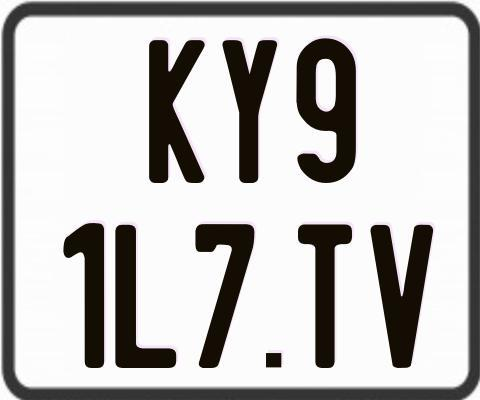1: (62, 220, 108, 370)
7: (192, 223, 256, 367)
9: (295, 38, 356, 185)
K: (149, 38, 210, 186)
L: (115, 224, 176, 373)
T: (297, 221, 353, 368)
V: (370, 224, 433, 372)
Y: (222, 39, 280, 188)
